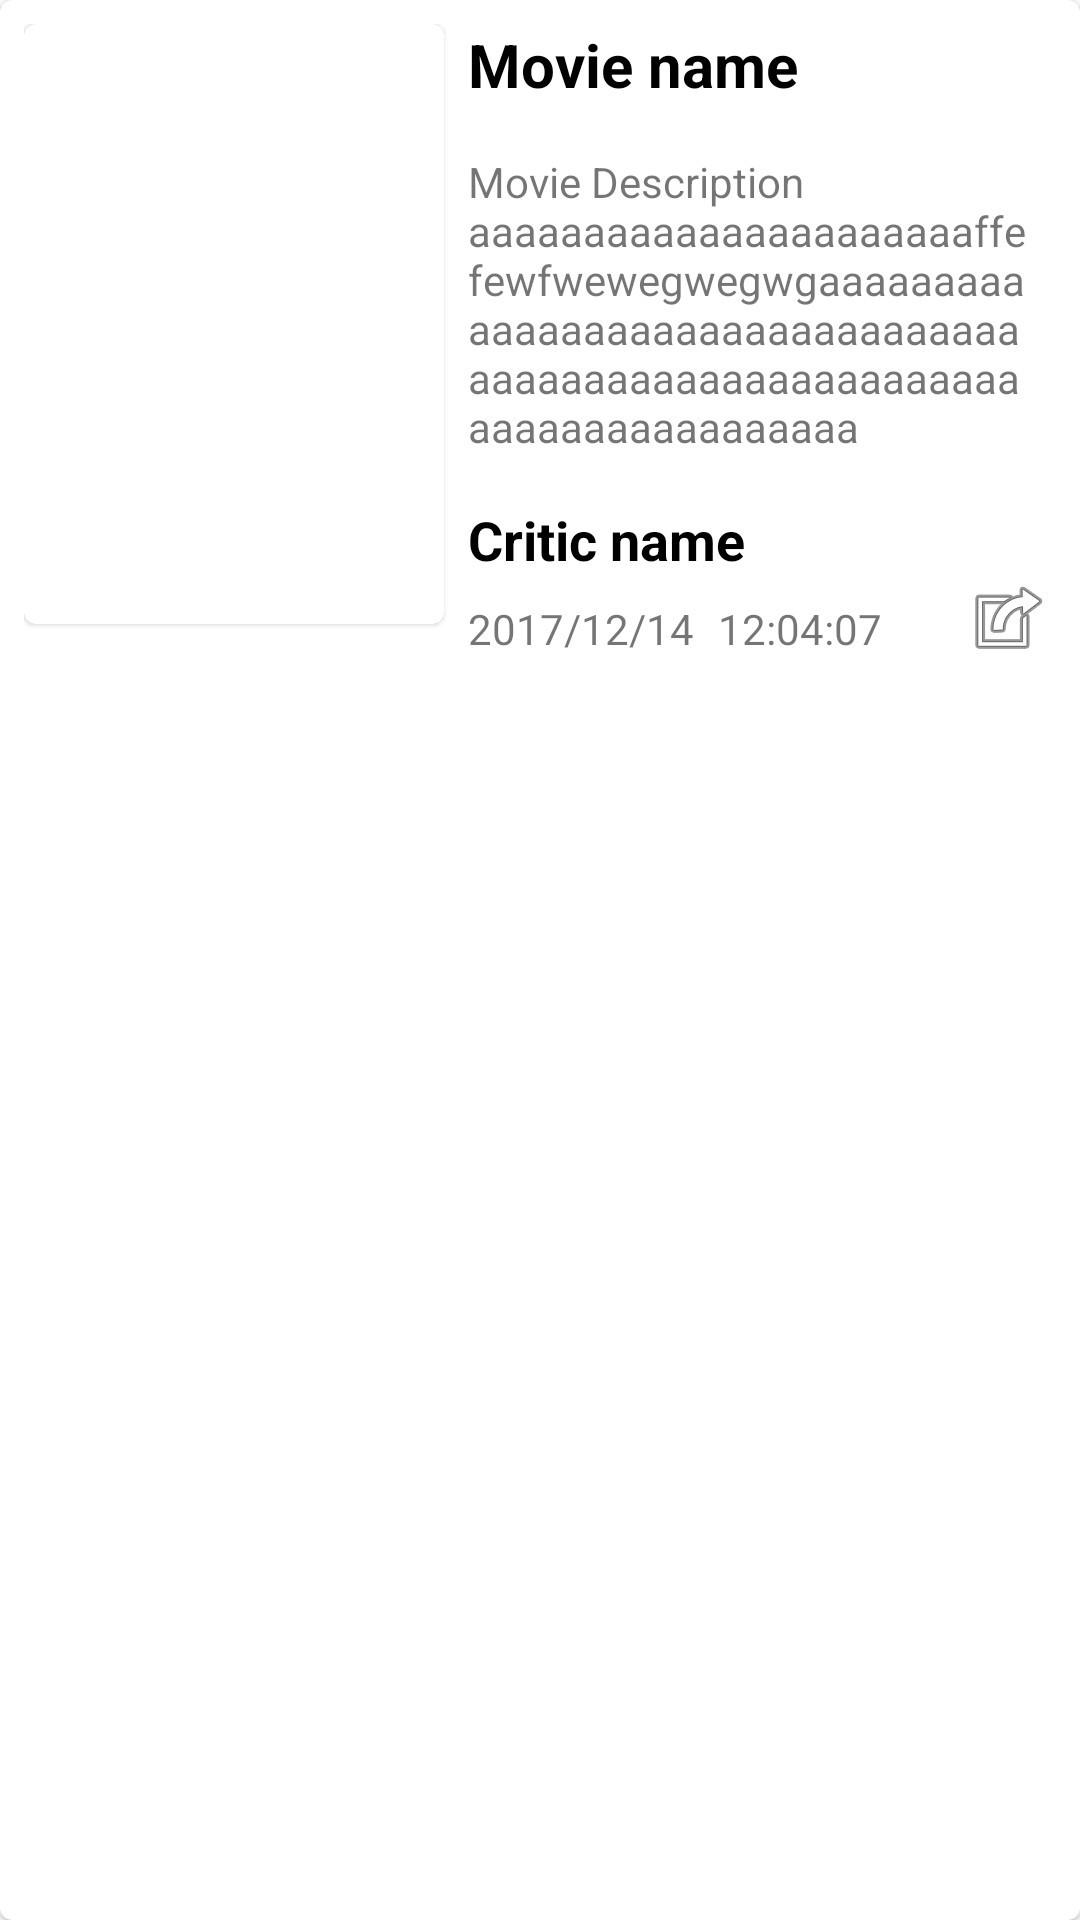

Point at icon controls on the screen. Image size 1080*1920, points as (x=x, y=y).
Link image: (x=1009, y=617)
